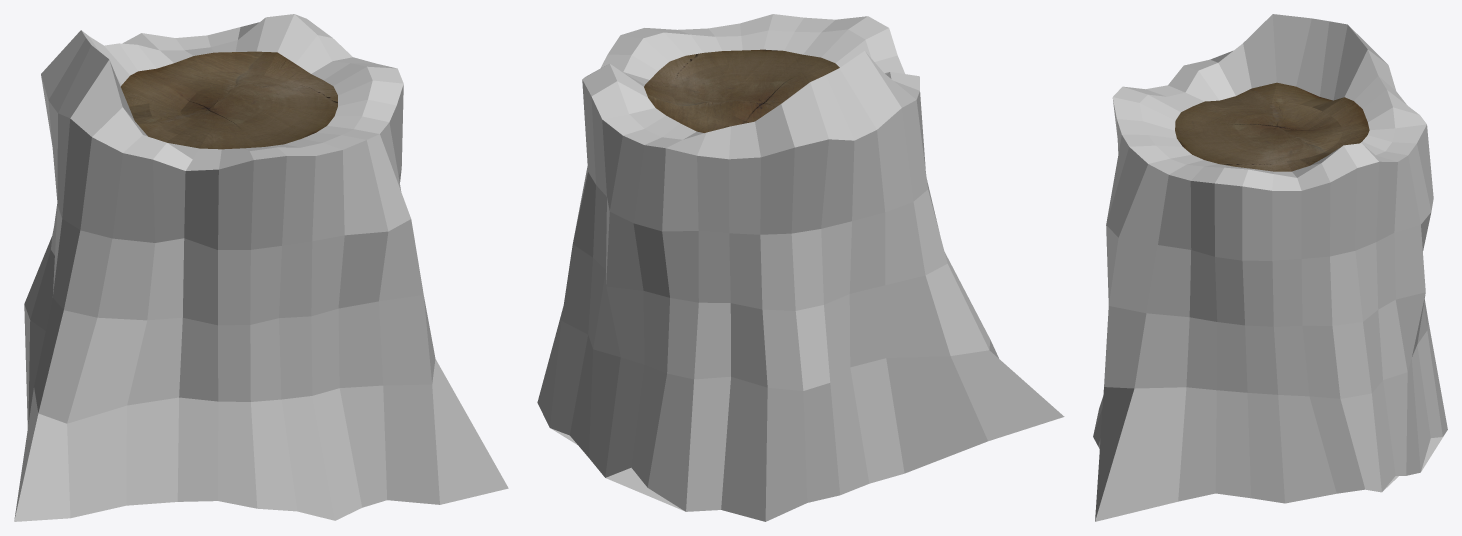
Rendered from Treetrunk.fbx.
3 views of the same model, side by side, from view 1: azimuth 30°, elevation 25°; view 2: azimuth 150°, elevation 25°; view 3: azimuth 270°, elevation 25° (orthographic). The views are drawn at different scales.
Visible parts, largest first — view 1: Cylinder, Cylinder.001; view 2: Cylinder, Cylinder.001; view 3: Cylinder, Cylinder.001.
Part boxes in pixels (box(x1,y1,x2,y2)): Cylinder: box(14, 14, 508, 521); Cylinder.001: box(121, 51, 337, 149); Cylinder: box(537, 14, 1064, 521); Cylinder.001: box(644, 49, 839, 132); Cylinder: box(1093, 14, 1447, 521); Cylinder.001: box(1175, 82, 1369, 171).
Bounding box in the file's own units: 315 × 289 × 243.
